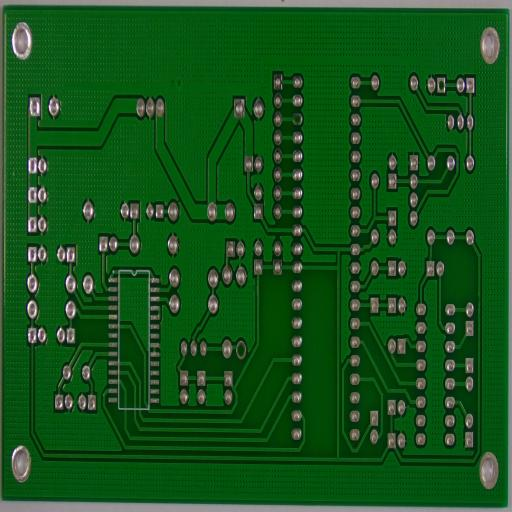missing_hole: (234, 336, 248, 362), (435, 76, 447, 94), (293, 109, 302, 127)
